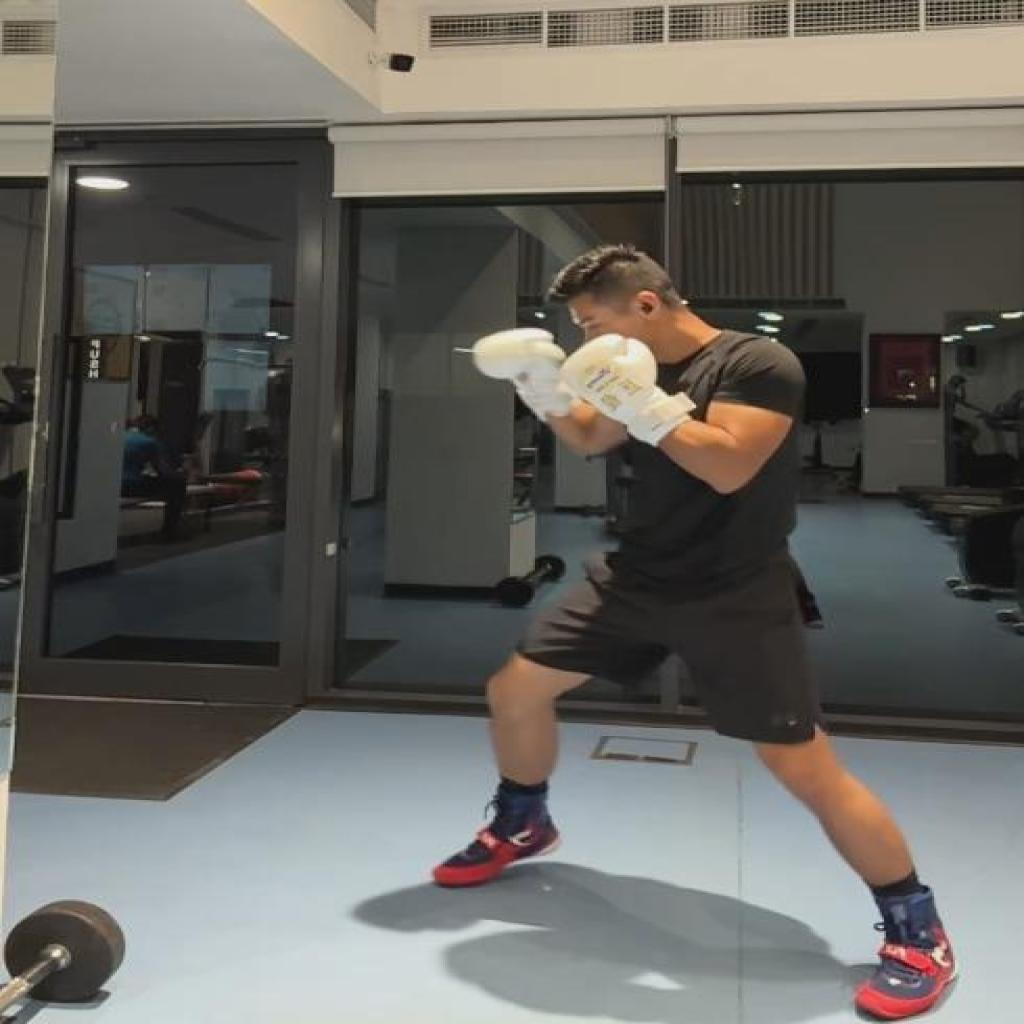no punch: (432, 241, 963, 1024)
